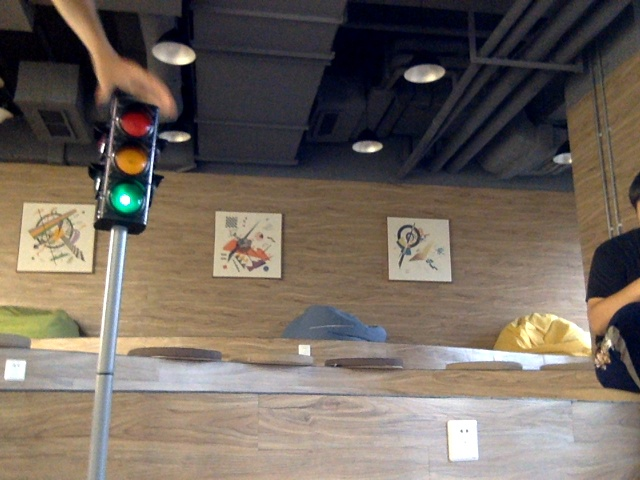green: (107, 111, 148, 216)
